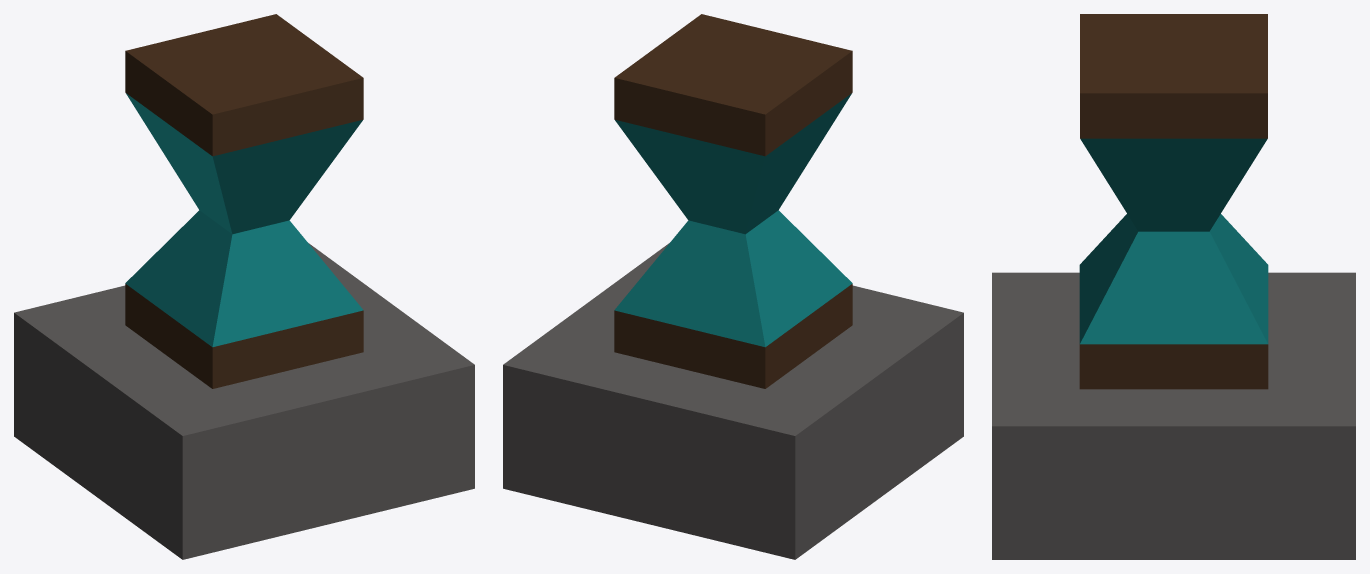
The model's file is Statue_Hourglass.FBX.
3 views of the same model, side by side, from view 1: azimuth 30°, elevation 25°; view 2: azimuth 150°, elevation 25°; view 3: azimuth 270°, elevation 25° (orthographic). The views are drawn at different scales.
Visible parts, largest first — view 1: Statue_Hourglass; view 2: Statue_Hourglass; view 3: Statue_Hourglass.
Boxes of the visible parts, box(x1,y1,x2,y2) form: Statue_Hourglass: box(14, 14, 474, 559); Statue_Hourglass: box(503, 14, 963, 559); Statue_Hourglass: box(992, 14, 1355, 559).
Bounding box in the file's own units: 8.88 × 11.56 × 8.88.
